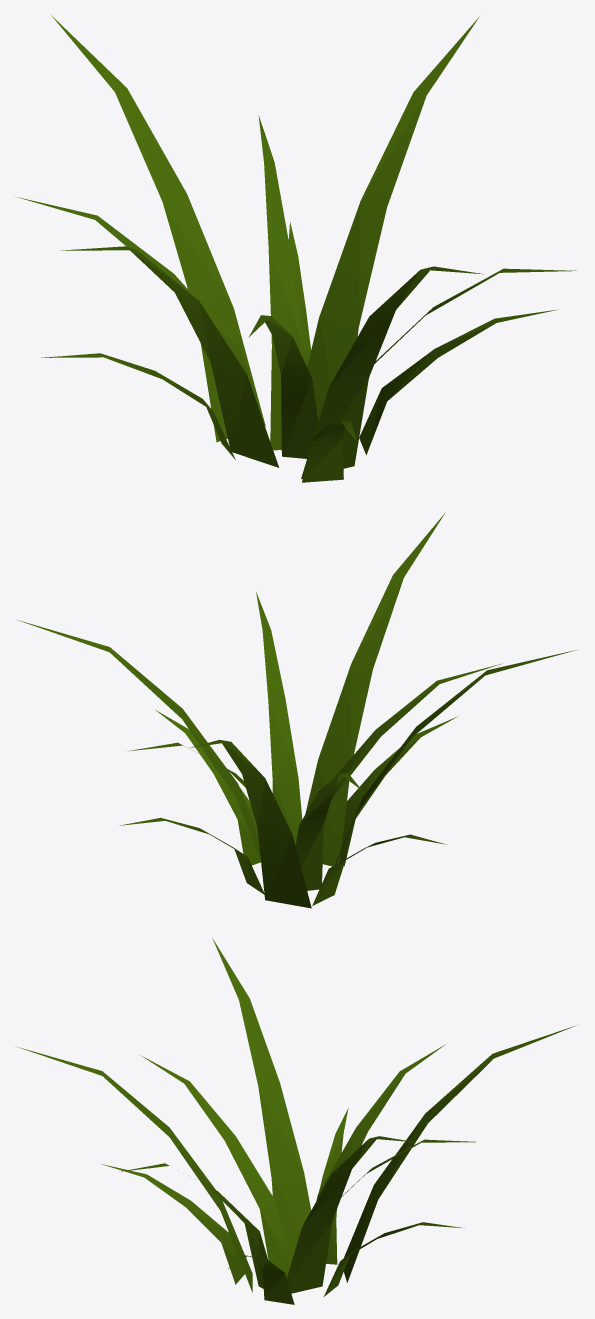
File: tuffft.obj
The picture shows the model from 3 angles, top to bottom: view 1: azimuth 30°, elevation 25°; view 2: azimuth 150°, elevation 25°; view 3: azimuth 270°, elevation 25°; orthographic projection. The views are drawn at different scales.
Parts seen in each view (by area): view 1: ElwFor_Grass01; view 2: ElwFor_Grass01; view 3: ElwFor_Grass01.
Part boxes in pixels (left/top/right/bottom): ElwFor_Grass01: left=15, top=15, right=576, bottom=482; ElwFor_Grass01: left=16, top=512, right=577, bottom=908; ElwFor_Grass01: left=16, top=938, right=577, bottom=1304.
Bounding box in the file's own units: 0.52 × 0.2799 × 0.6066.
